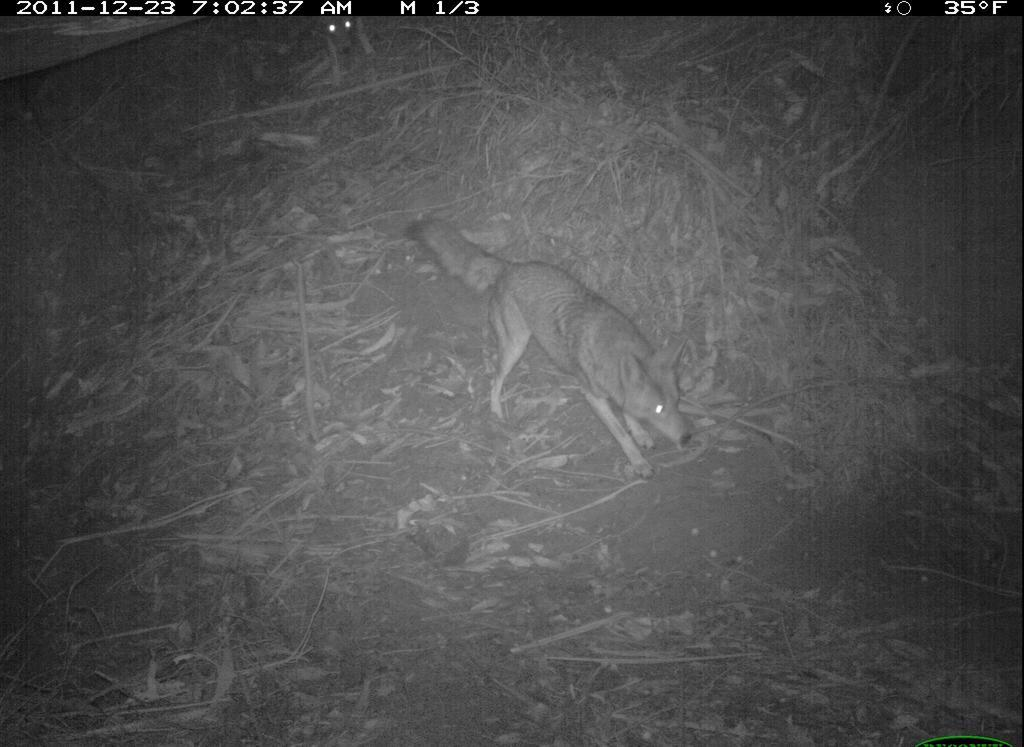coyote: (405, 216, 698, 486)
